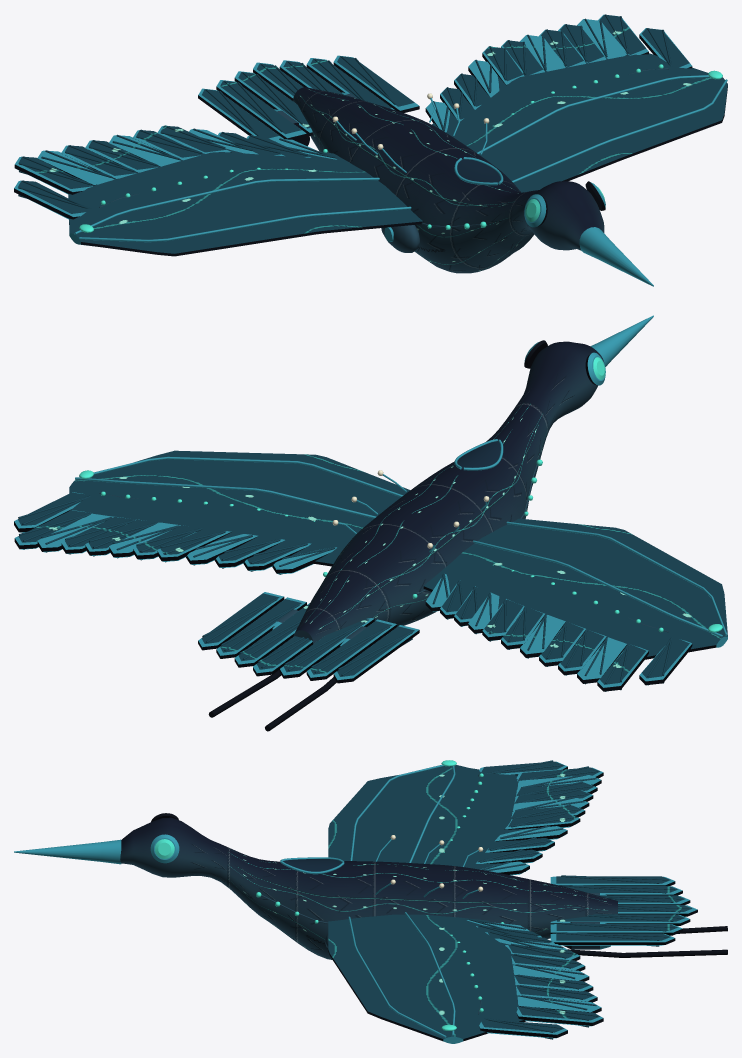
3 renders of one model, top to bottom at view 1: azimuth 30°, elevation 25°; view 2: azimuth 150°, elevation 25°; view 3: azimuth 270°, elevation 25°, orthographic. The views are drawn at different scales.
Parts seen in each view (by area): view 1: egret_hull; view 2: egret_hull; view 3: egret_hull.
Boxes of the visible parts, x1,y1,x2,y2 form: egret_hull: (14,14,727,286); egret_hull: (14,315,727,731); egret_hull: (14,760,727,1043).
Size of the model in its own units: 36.2 by 8.4 by 40.
Materials: 1 (1 with a texture image).
